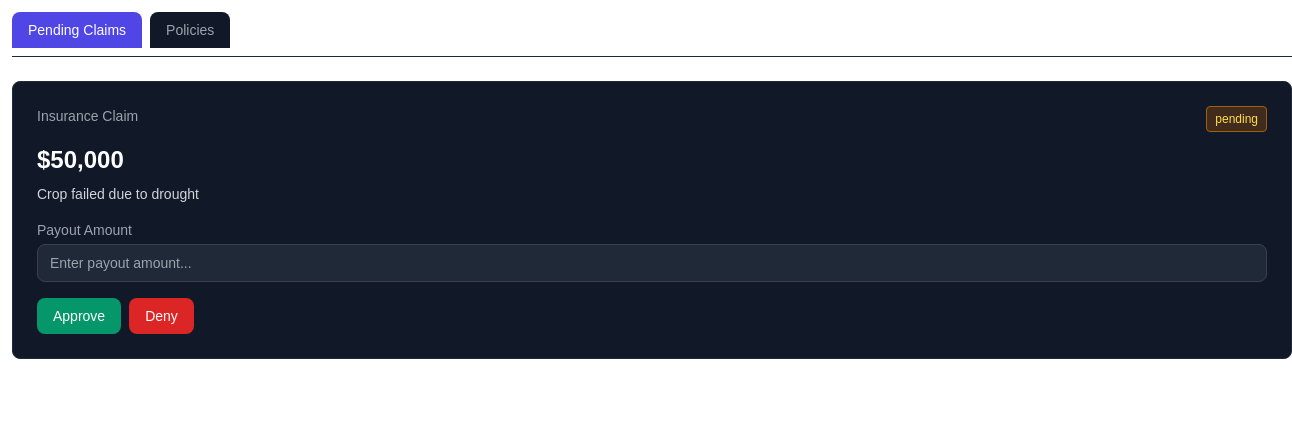
Scenario: InsuranceOwnerPanel › Pending Claims tab › shows error when approve is clicked without payout amount
Click the button "Approve". click: (79, 316)
box: [37,298,121,334]
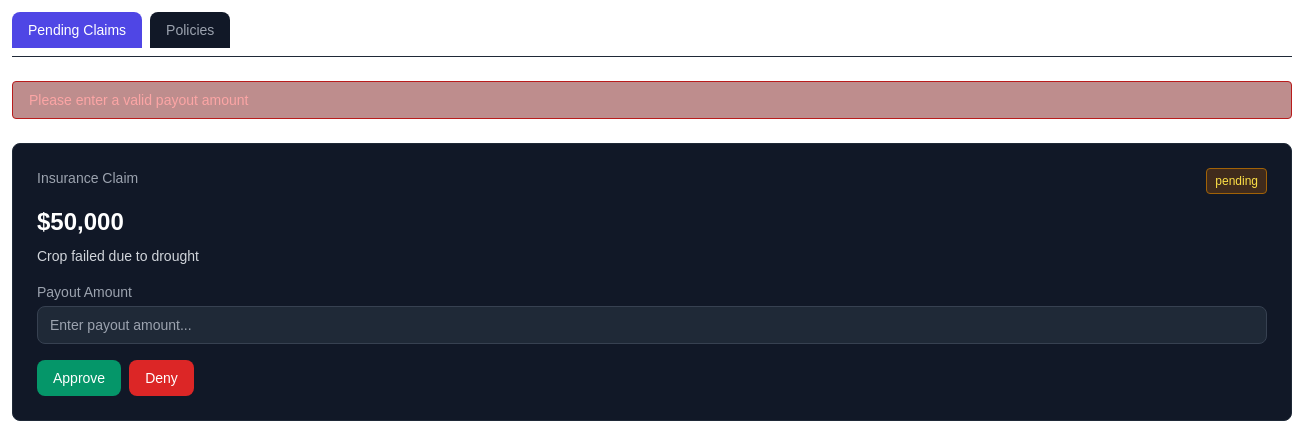
Expected: the text "Please enter a valid payout amount" is shown, [12,81,1291,119]
